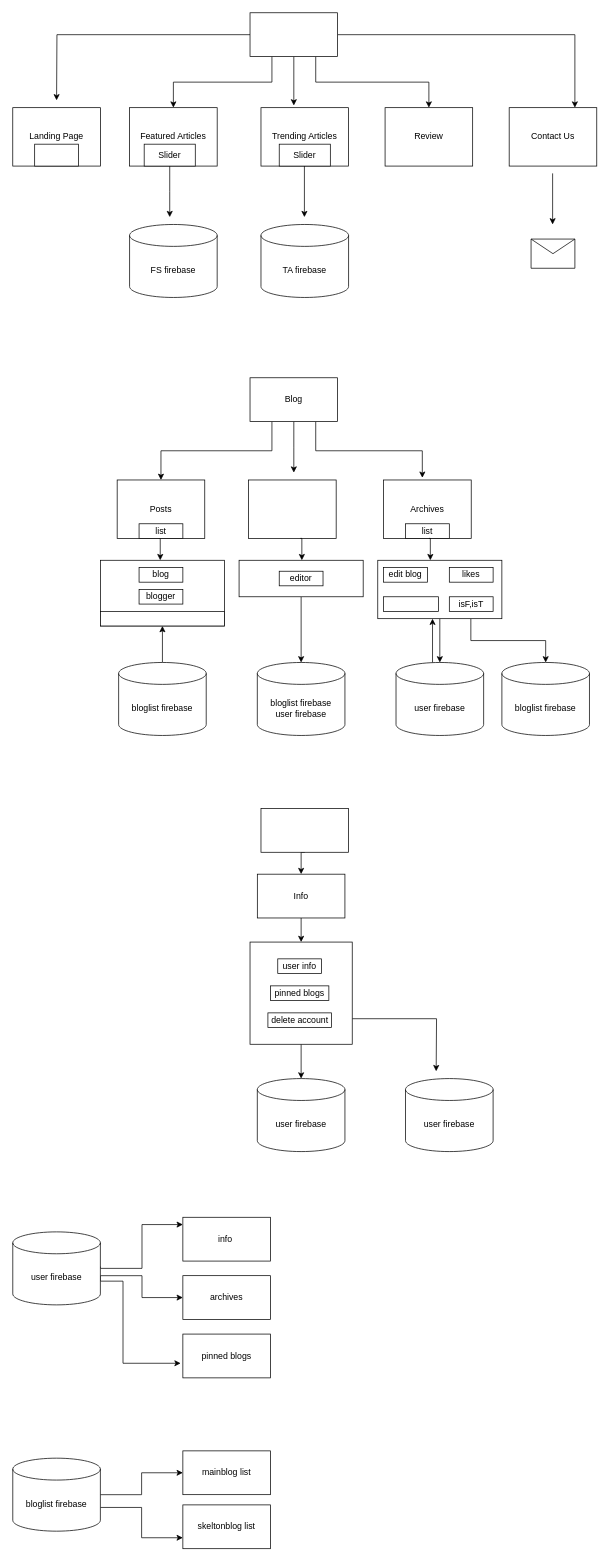
Image size: 610x1561. Some labels were removed from this diagram. Each missing label, with the centre of its shape:
"Dashboard" goes at pixel 304 830.
"delete blog" goes at pixel 410 603.
"Get Started" goes at pixel 56 154.
"Home" goes at pixel 293 34.
"like blog pin blog follow blogger" goes at pixel 162 618.
"Write" goes at pixel 292 508.
